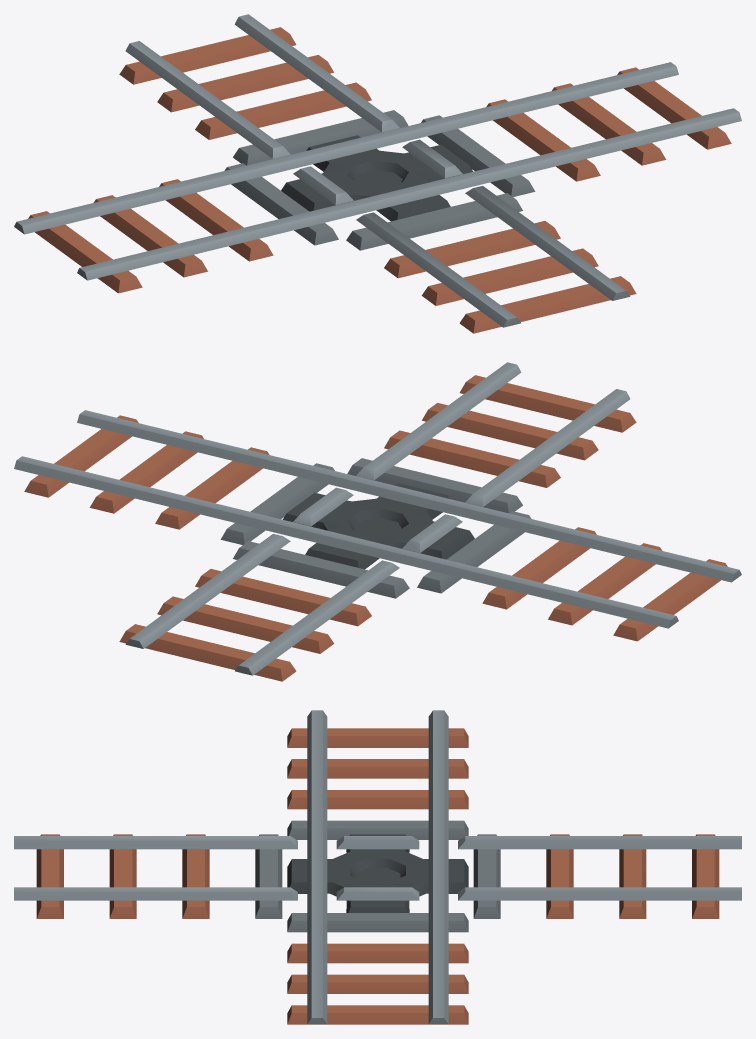
File: tracks_crossing.obj
The picture shows the model from 3 angles, top to bottom: view 1: azimuth 30°, elevation 25°; view 2: azimuth 150°, elevation 25°; view 3: azimuth 270°, elevation 25°; orthographic projection. The views are drawn at different scales.
Visible parts, largest first — view 1: tracks_crossing; view 2: tracks_crossing; view 3: tracks_crossing.
Part boxes in pixels (left/top/right/bottom): tracks_crossing: left=14, top=14, right=741, bottom=333; tracks_crossing: left=14, top=362, right=741, bottom=681; tracks_crossing: left=14, top=710, right=741, bottom=1024.
Size of the model in its own units: 2 by 0.05 by 2.
Materials: 1 (1 with a texture image).
